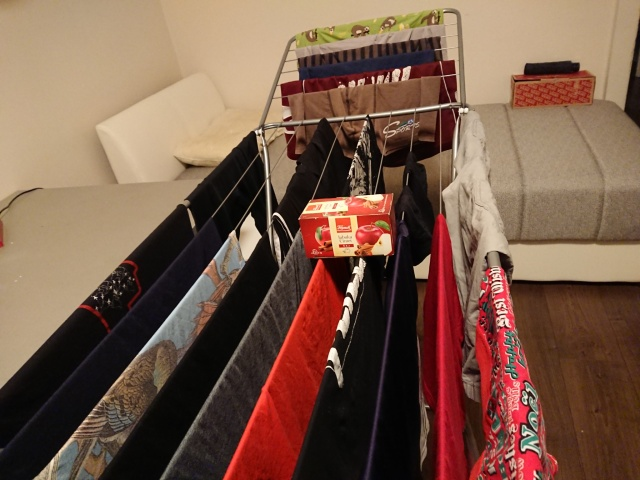Franck Apple Cinnamon Tea 60g: (296, 190, 399, 261)
